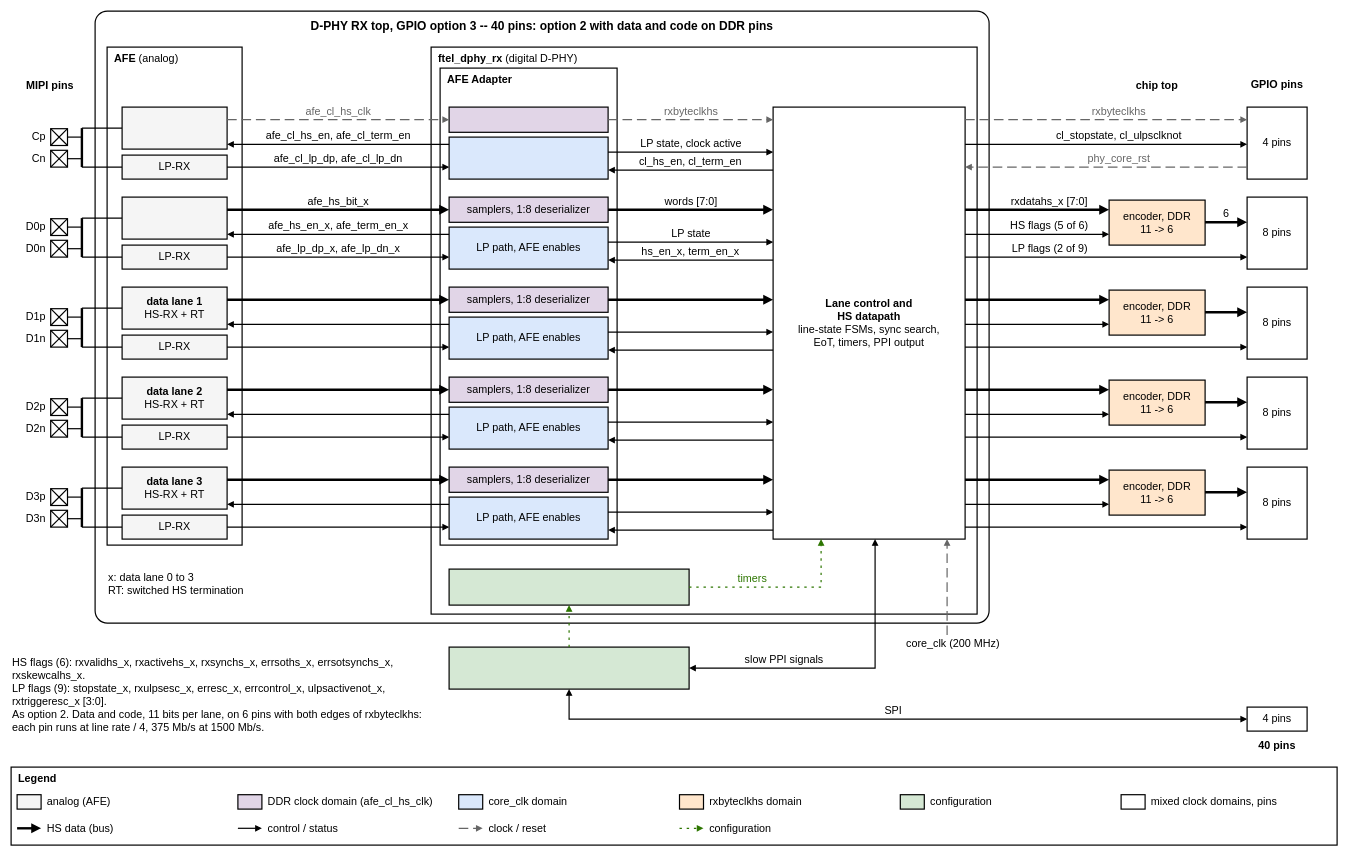
This 1348x856 diagram has some shape labels left out. The shapes that lost their labels are listed below. From the top down, each one's centre as x and y in pixels, then its label:
point (174, 127): clock lane HS-RX + RT
point (528, 119): byte clock, /4
point (528, 157): LP path, clock activity, AFE enables
point (174, 217): data lane 0 HS-RX + RT
point (568, 586): Configuration & Status
point (568, 667): SPI slave + registers (chip top) configuration, enables, slow PPI flags
